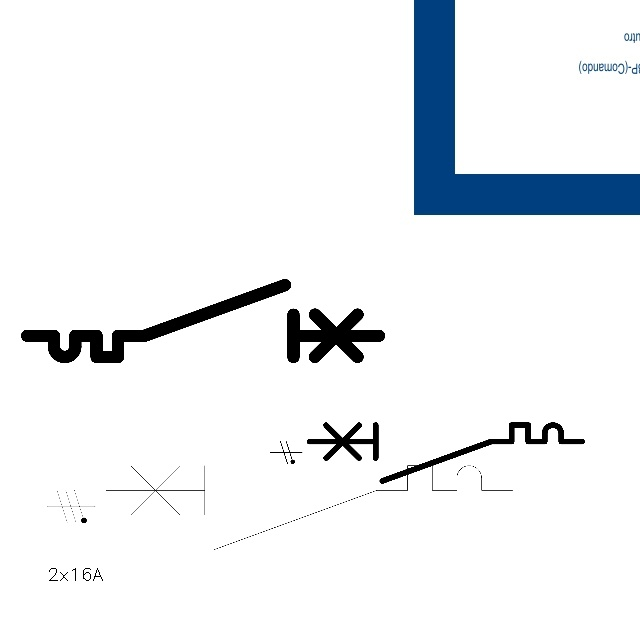interruptor_termomagnetico: (95, 455, 523, 559), (18, 276, 387, 366), (302, 418, 589, 488)
